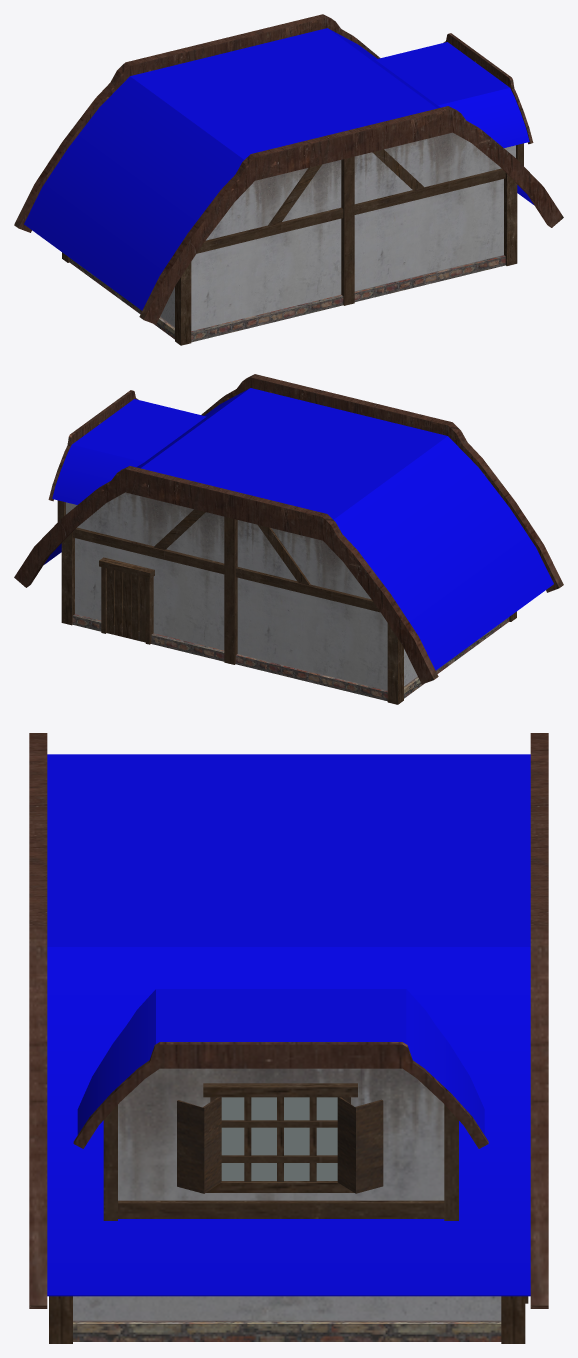
File: casa3.fbx
3 views of the same model, one above another, from view 1: azimuth 30°, elevation 25°; view 2: azimuth 150°, elevation 25°; view 3: azimuth 270°, elevation 25° (orthographic). The views are drawn at different scales.
Parts seen in each view (by area): view 1: TEJADO, CASITA, MADERATEJADO, MADERACASITA, BASECASITA; view 2: TEJADO, CASITA, MADERATEJADO, MADERACASITA, BASECASITA; view 3: TEJADO, MADERATEJADO, CASITA, MADERACASITA, BASECASITA, PUERTASVENTANAS, VENTANA.
Part boxes in pixels (left/top/right/bottom): TEJADO: left=24, top=28, right=534, bottom=310; CASITA: left=160, top=132, right=515, bottom=331; MADERATEJADO: left=14, top=14, right=563, bottom=324; MADERACASITA: left=62, top=143, right=523, bottom=345; BASECASITA: left=69, top=255, right=505, bottom=342; TEJADO: left=44, top=388, right=553, bottom=670; CASITA: left=66, top=492, right=417, bottom=690; MADERATEJADO: left=14, top=374, right=563, bottom=684; MADERACASITA: left=57, top=500, right=516, bottom=704; BASECASITA: left=72, top=614, right=509, bottom=701; TEJADO: left=47, top=754, right=530, bottom=1296; MADERATEJADO: left=29, top=733, right=548, bottom=1308; CASITA: left=73, top=1068, right=501, bottom=1320; MADERACASITA: left=49, top=1083, right=528, bottom=1343; BASECASITA: left=73, top=1320, right=501, bottom=1341; PUERTASVENTANAS: left=177, top=1097, right=383, bottom=1193; VENTANA: left=221, top=1097, right=337, bottom=1180.
Size of the model in its own units: 35.69 by 14.22 by 19.1.
